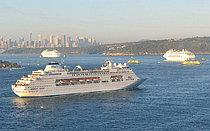Ship: (9, 59, 150, 100)
